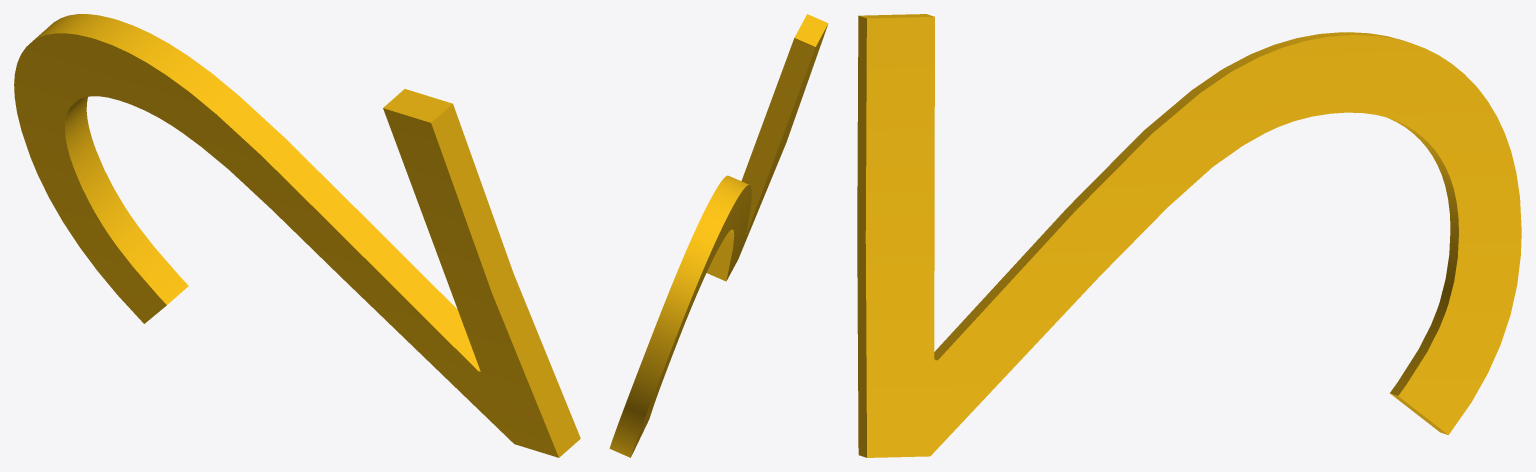
File: Number_2.gltf
3 renders of one model, left to right at view 1: azimuth 30°, elevation 25°; view 2: azimuth 150°, elevation 25°; view 3: azimuth 270°, elevation 25°, orthographic. The views are drawn at different scales.
Visible parts, largest first — view 1: Sub_8_Cell_3_3_Number_2; view 2: Sub_8_Cell_3_3_Number_2; view 3: Sub_8_Cell_3_3_Number_2.
Boxes of the visible parts, x1,y1,x2,y2 form: Sub_8_Cell_3_3_Number_2: (14, 14, 580, 457); Sub_8_Cell_3_3_Number_2: (609, 14, 828, 457); Sub_8_Cell_3_3_Number_2: (857, 14, 1521, 457).
Bounding box in the file's own units: 0.0119 × 0.0177 × 0.0249.
